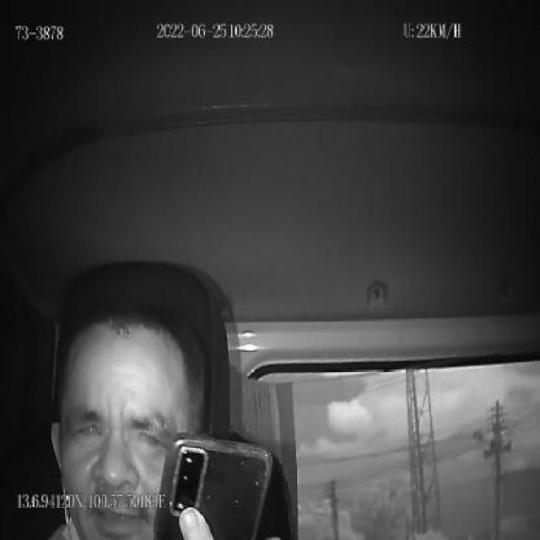phone: (153, 432, 274, 540)
